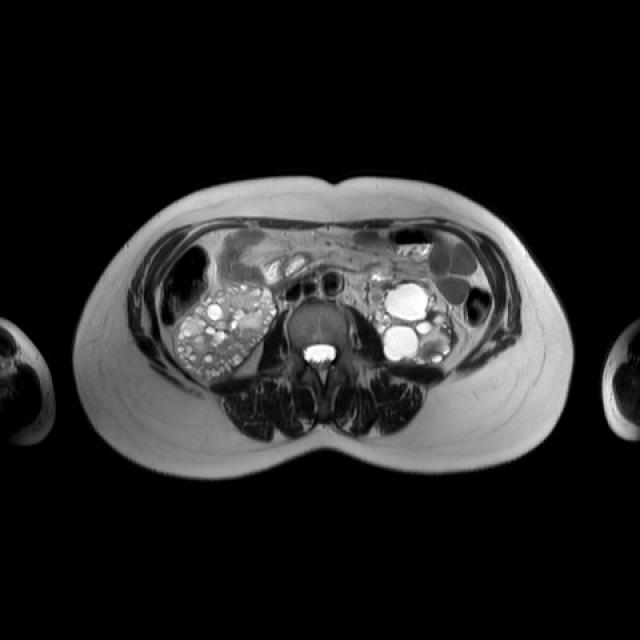sag: (175, 281, 277, 384)
sol: (371, 279, 456, 366)
